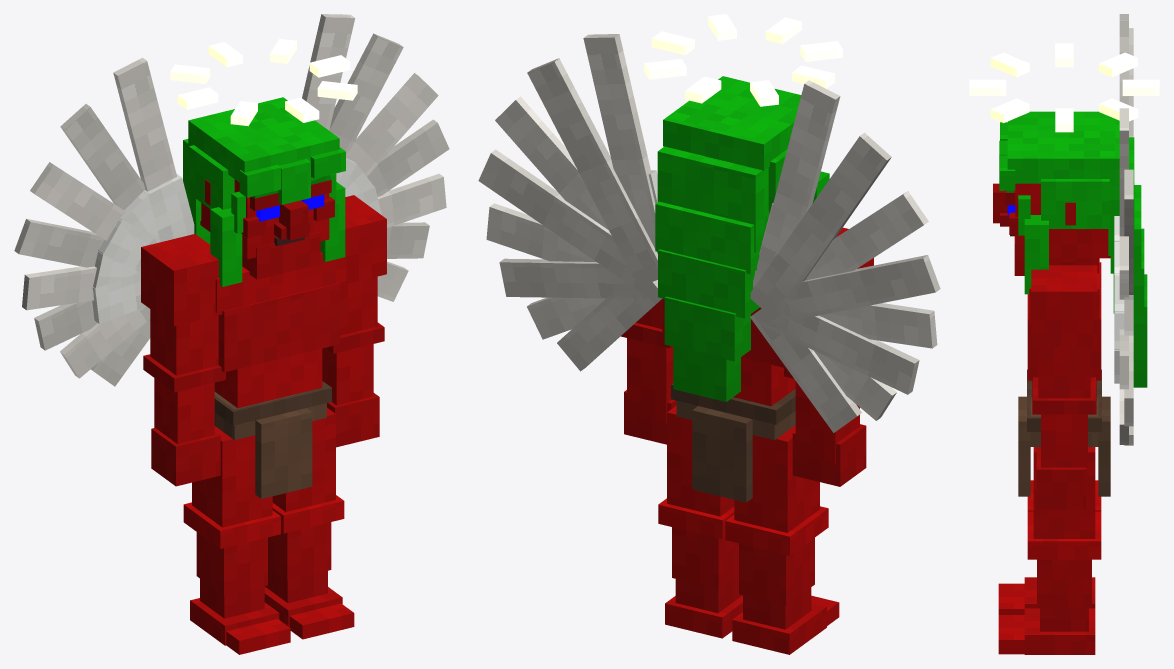
Rendered from angel_s0.glb.
3 renders of one model, left to right at view 1: azimuth 30°, elevation 25°; view 2: azimuth 150°, elevation 25°; view 3: azimuth 270°, elevation 25°, orthographic. The views are drawn at different scales.
Parts seen in each view (by area): view 1: Torso, Head, ArmR, LegR, LegL, ArmL; view 2: Torso, Head, LegR, LegL, ArmL, ArmR; view 3: Head, ArmL, LegL, Torso, LegR.
Part boxes in pixels (bbox=[...]): Torso: bbox=[14, 14, 449, 498]; Head: bbox=[170, 38, 357, 286]; ArmR: bbox=[141, 234, 225, 486]; LegR: bbox=[183, 426, 290, 654]; LegL: bbox=[264, 407, 354, 639]; ArmL: bbox=[322, 195, 386, 447]; Torso: bbox=[478, 34, 940, 502]; Head: bbox=[644, 14, 842, 401]; LegR: bbox=[725, 425, 839, 654]; LegL: bbox=[658, 405, 742, 638]; ArmL: bbox=[620, 299, 676, 444]; ArmR: bbox=[784, 227, 873, 486]; Head: bbox=[969, 43, 1159, 387]; ArmL: bbox=[1031, 265, 1097, 509]; LegL: bbox=[998, 447, 1101, 654]; Torso: bbox=[1018, 14, 1133, 496]; LegR: bbox=[998, 480, 1101, 614].
Bounding box in the file's own units: 1.63 × 2.02 × 0.6201.
Materials: 26 (26 with a texture image).
